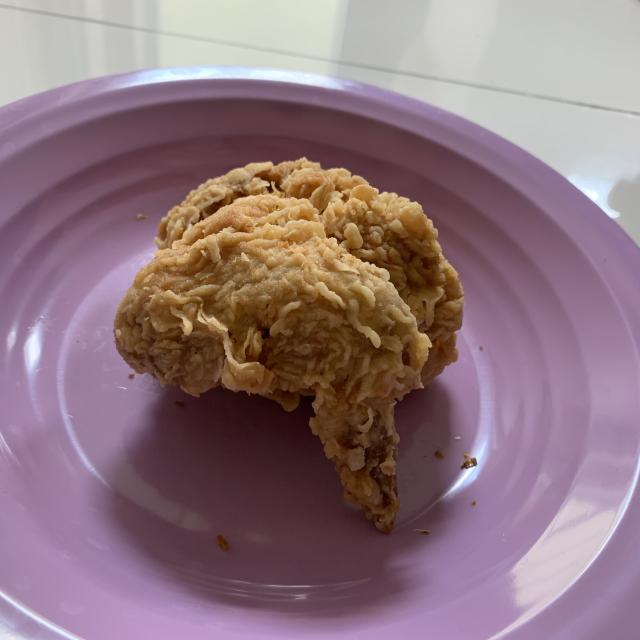Frango: (113, 164, 462, 532)
